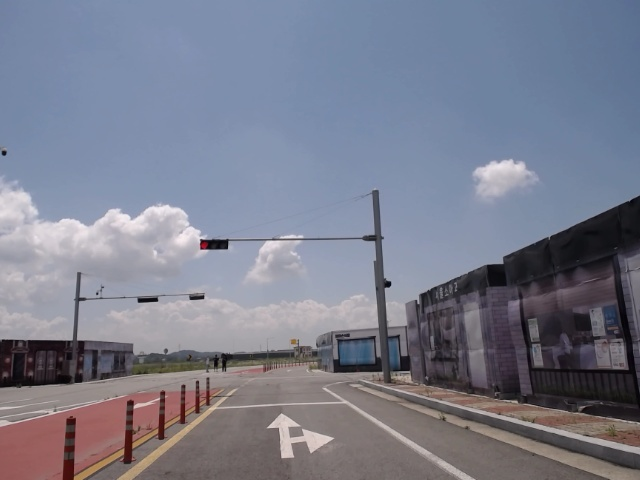red_3: (199, 239, 231, 252)
